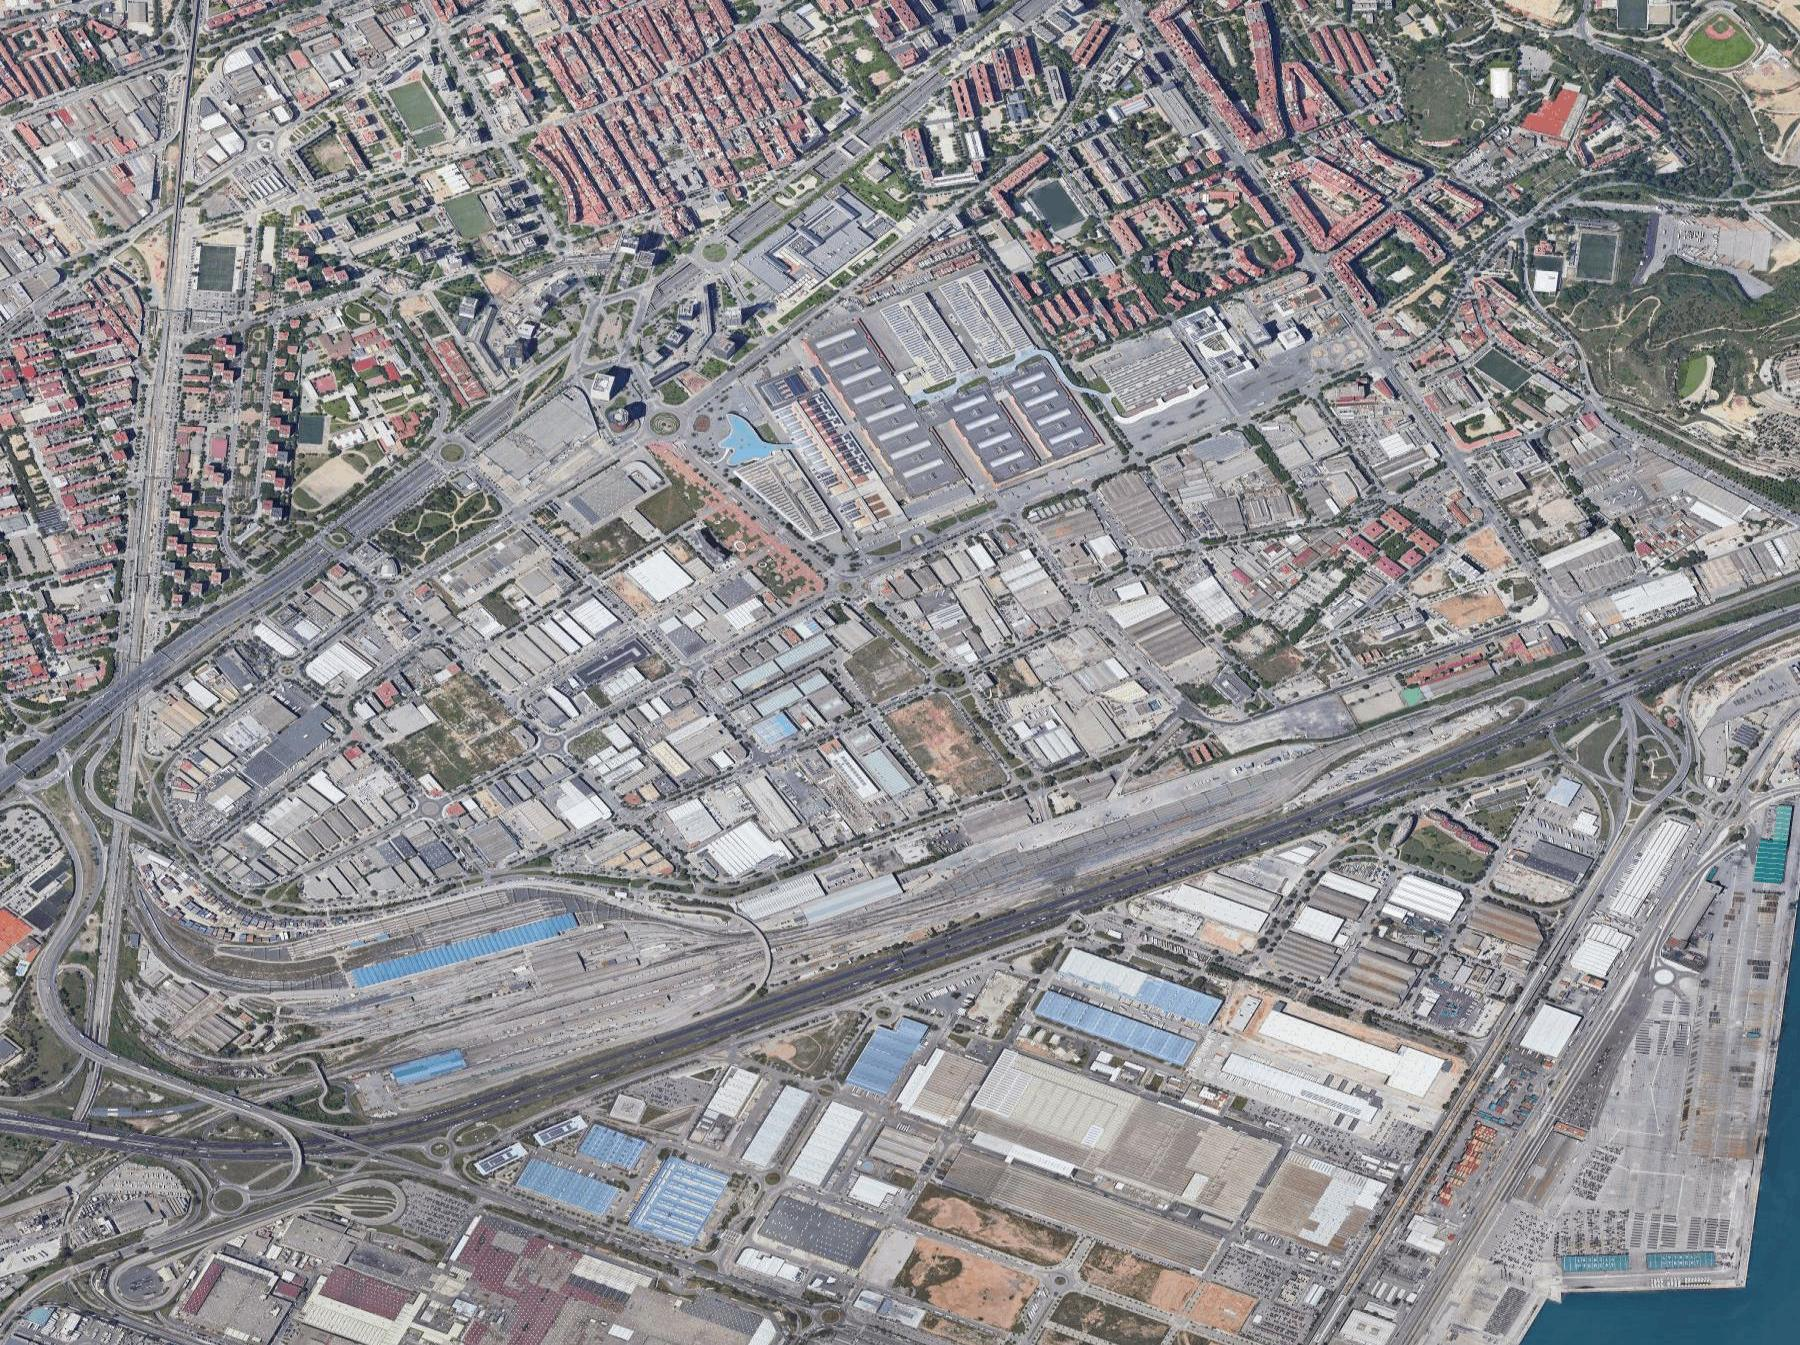industrial: (383, 162, 1356, 829)
motorway: (389, 1016, 689, 1142), (688, 942, 988, 1068), (975, 822, 1274, 948), (1266, 705, 1554, 832), (1, 1102, 387, 1171)
train_station: (314, 873, 698, 1085)
